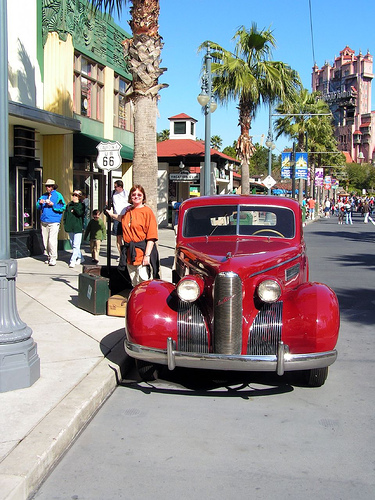without_mask: (128, 188, 146, 207), (69, 190, 83, 204), (111, 182, 124, 193), (43, 183, 56, 194), (90, 211, 101, 222)
